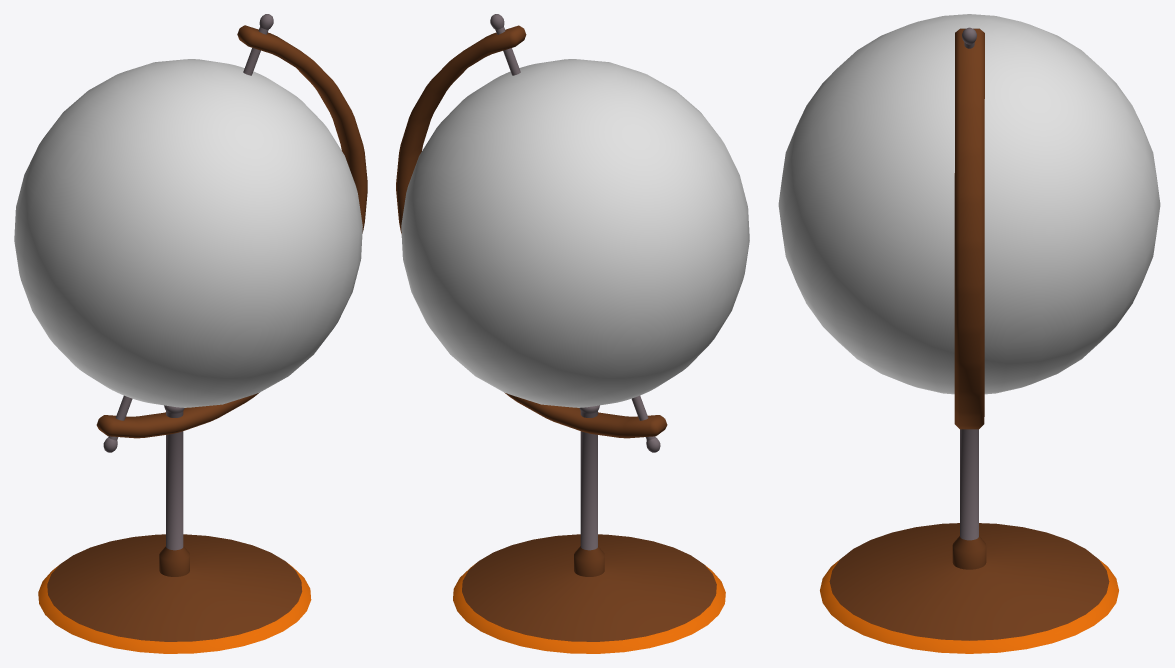
File: V_Industrial04_Globo.fbx
3 renders of one model, left to right at view 1: azimuth 30°, elevation 25°; view 2: azimuth 150°, elevation 25°; view 3: azimuth 270°, elevation 25°, orthographic. The views are drawn at different scales.
Parts seen in each view (by area): view 1: Globe; view 2: Globe; view 3: Globe.
Part boxes in pixels (box(x1,y1,x2,y2)): Globe: box(14, 14, 367, 653); Globe: box(396, 14, 749, 653); Globe: box(778, 14, 1160, 653).
Bounding box in the file's own units: 275 × 451 × 255.
